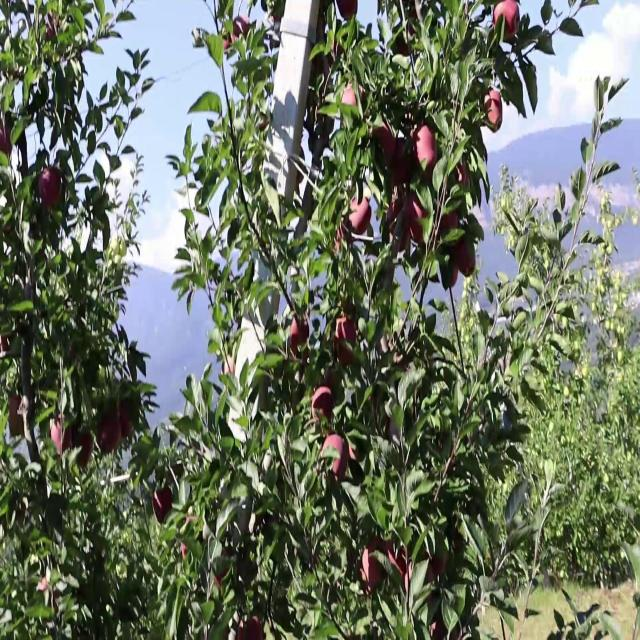apple: (412, 127, 440, 185), (320, 433, 348, 482), (492, 0, 520, 43), (360, 540, 384, 590), (388, 199, 409, 254), (408, 199, 430, 247), (612, 597, 637, 639), (40, 170, 64, 212), (312, 383, 336, 425), (372, 120, 396, 162), (388, 199, 407, 249), (388, 213, 410, 256), (348, 199, 372, 238), (392, 142, 412, 188), (484, 92, 504, 135), (100, 412, 120, 455), (52, 419, 74, 457), (116, 398, 135, 441), (336, 334, 359, 368), (292, 319, 311, 359), (152, 490, 173, 524), (388, 547, 409, 580), (8, 398, 24, 439), (76, 433, 94, 469), (460, 241, 477, 279), (396, 28, 416, 59), (336, 319, 359, 345), (388, 199, 404, 233), (336, 0, 359, 21), (336, 220, 351, 252), (440, 213, 460, 236), (336, 348, 356, 368), (432, 554, 448, 578), (336, 220, 348, 252), (0, 127, 13, 156), (456, 163, 471, 187), (448, 263, 460, 292), (344, 85, 359, 108), (248, 618, 264, 639), (216, 568, 228, 592), (4, 334, 11, 356)
